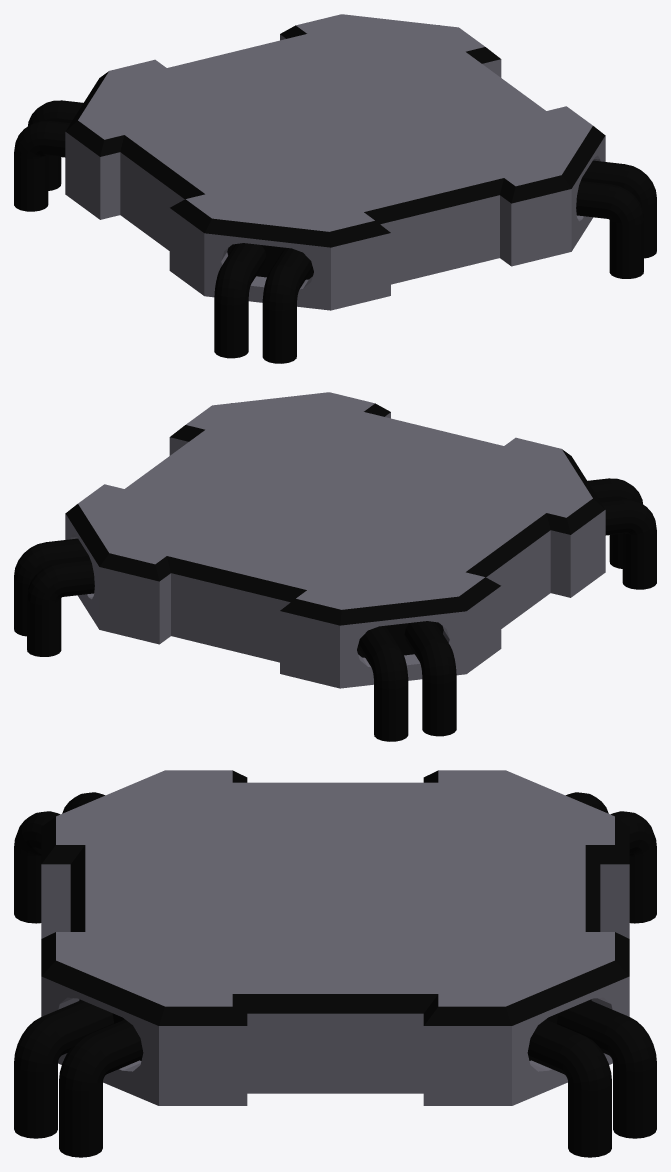
File: Platform.fbx
3 renders of one model, top to bottom at view 1: azimuth 30°, elevation 25°; view 2: azimuth 150°, elevation 25°; view 3: azimuth 270°, elevation 25°, orthographic. The views are drawn at different scales.
Parts seen in each view (by area): view 1: Platform; view 2: Platform; view 3: Platform.
Boxes of the visible parts, <box> form: Platform: <box>14,14,656,363</box>; Platform: <box>14,392,656,741</box>; Platform: <box>14,770,656,1157</box>.
Bounding box in the file's own units: 219 × 50 × 219.
